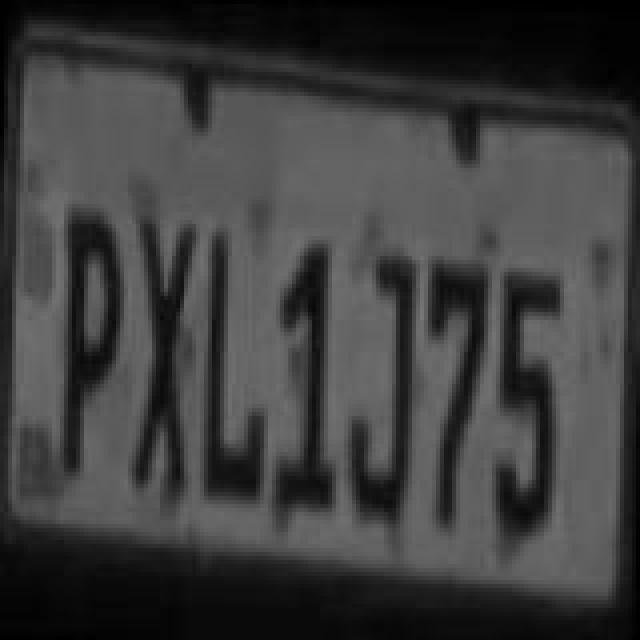1: (272, 242, 336, 518)
5: (490, 266, 562, 538)
7: (422, 254, 486, 530)
J: (348, 252, 416, 528)
L: (204, 234, 268, 502)
P: (60, 222, 124, 478)
X: (130, 214, 198, 498)
